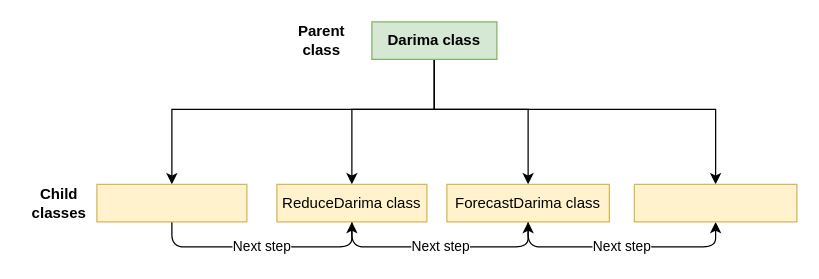
Some shapes in this 819 by 279 pixel diagram are drawn without their labels. The box of each missing label's shape, as (x1, y1, x2, y2) in pixels:
EvaluationDarima class: (633, 183, 797, 222)
MapDarima class: (96, 183, 247, 222)
